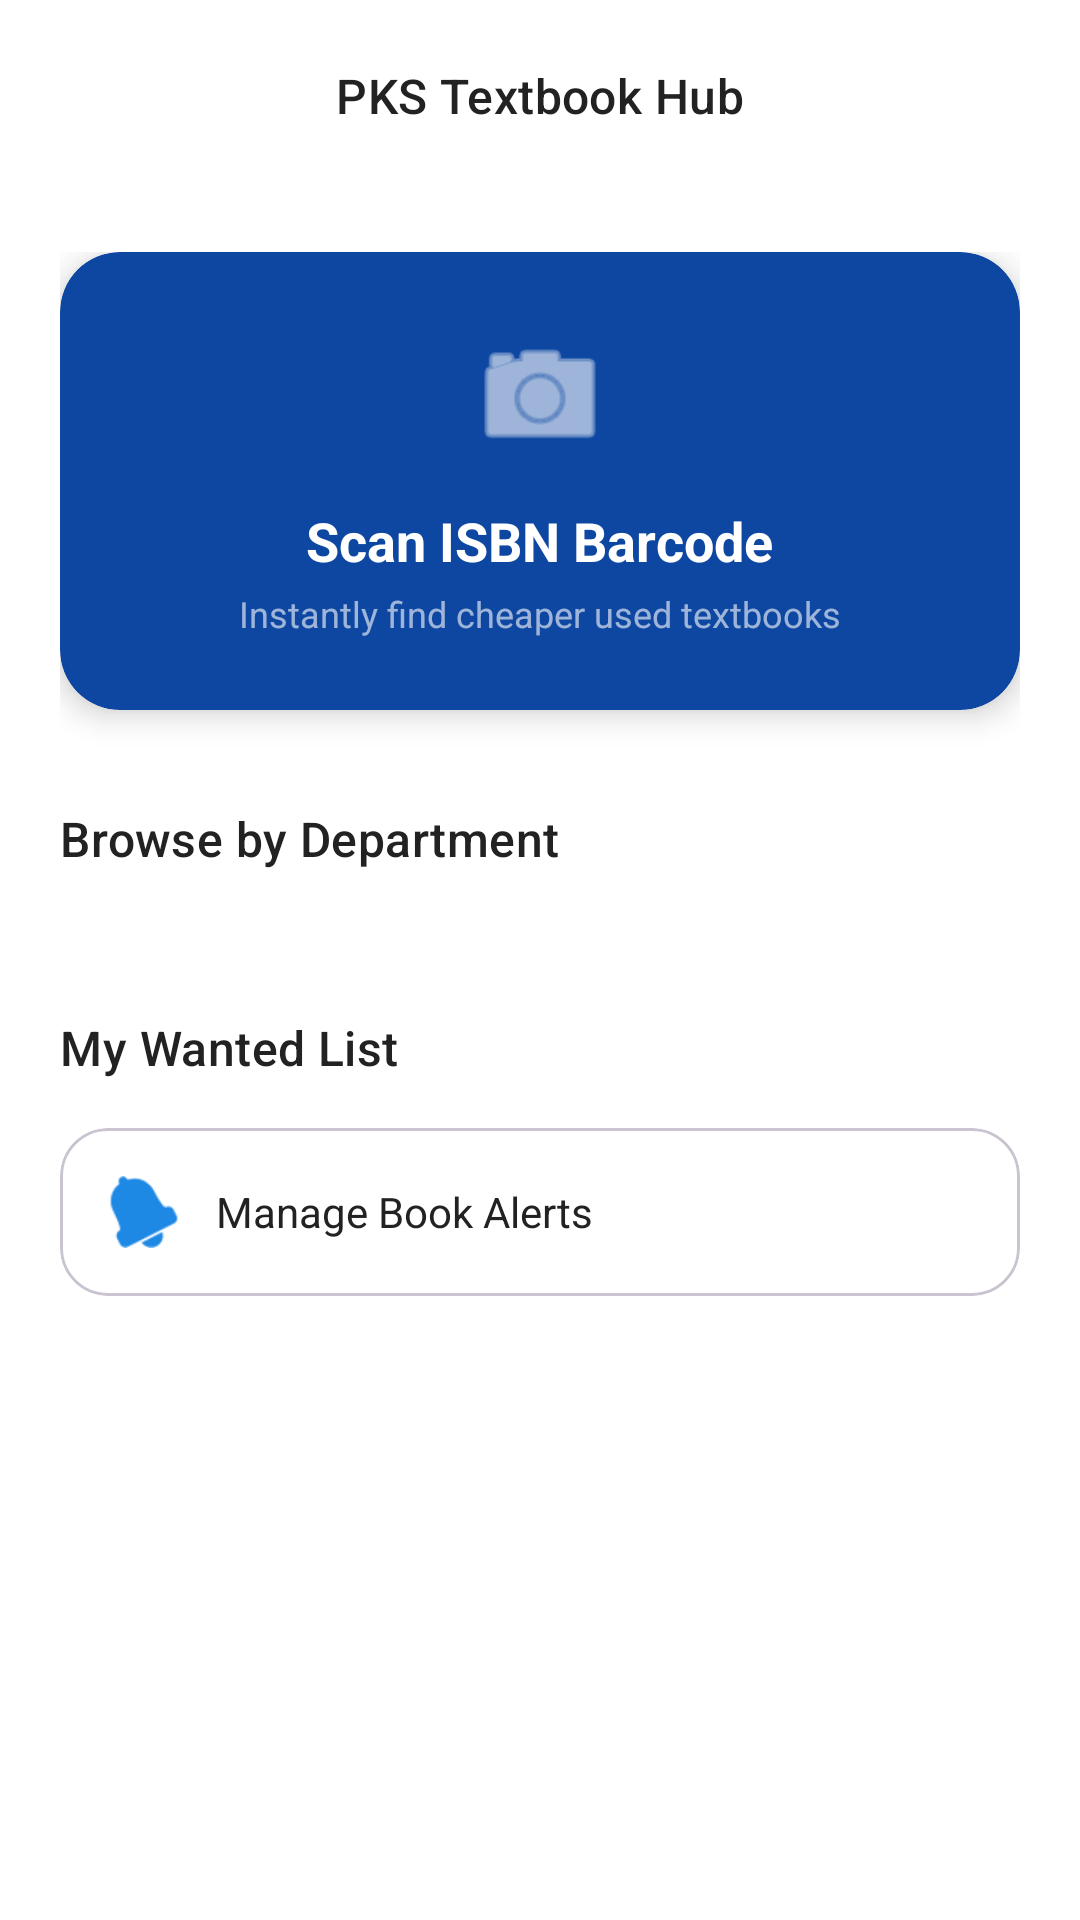

Icon bounding boxes for this 1080x1920 phone screenshot, format bbox(x1, y1, x2, y2):
camera: bbox(484, 349, 596, 438)
popup reminder: bbox(110, 1176, 178, 1248)
